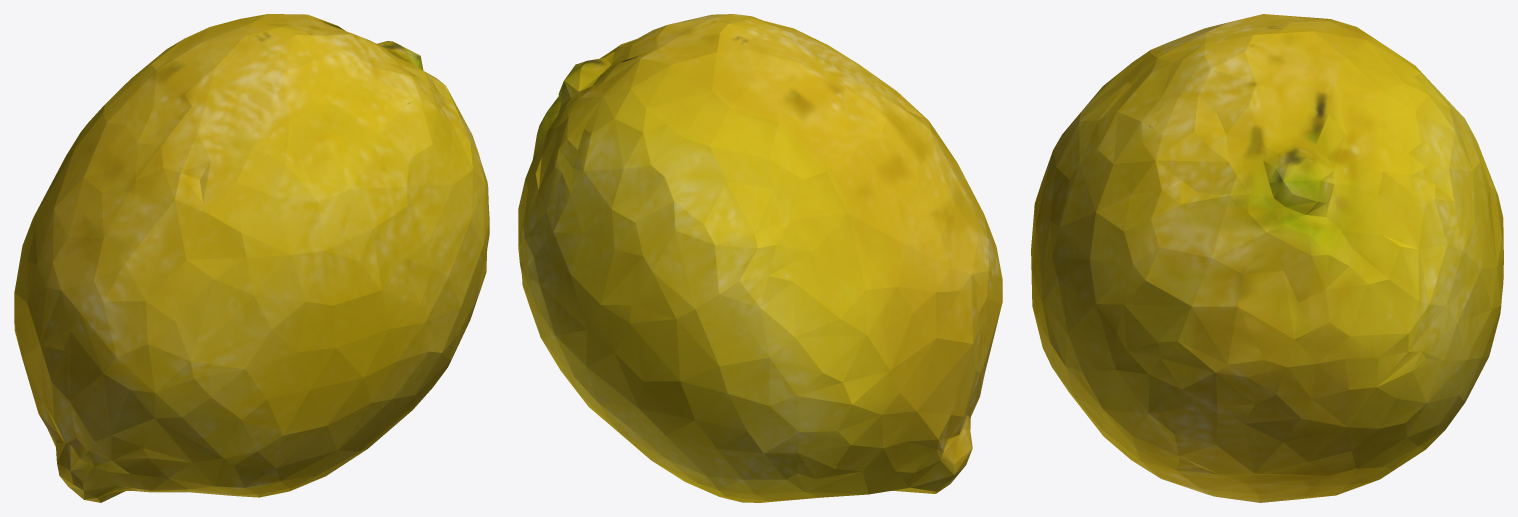
The model's file is 014_lemon.obj.
The picture shows the model from 3 angles, left to right: view 1: azimuth 30°, elevation 25°; view 2: azimuth 150°, elevation 25°; view 3: azimuth 270°, elevation 25°; orthographic projection. The views are drawn at different scales.
Visible parts, largest first — view 1: textured; view 2: textured; view 3: textured.
Boxes of the visible parts, <box> form: textured: <box>14,14,489,502</box>; textured: <box>518,14,1002,502</box>; textured: <box>1031,14,1503,502</box>.
Size of the model in its own units: 0.0608 by 0.0593 by 0.0529.
Materials: 1 (1 with a texture image).
